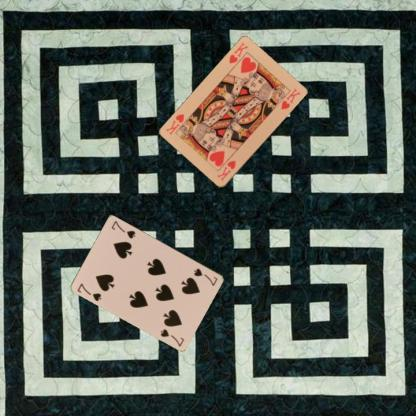7s: (191, 266, 219, 288), (75, 280, 103, 302)
Kh: (226, 40, 249, 66), (214, 158, 237, 182)
